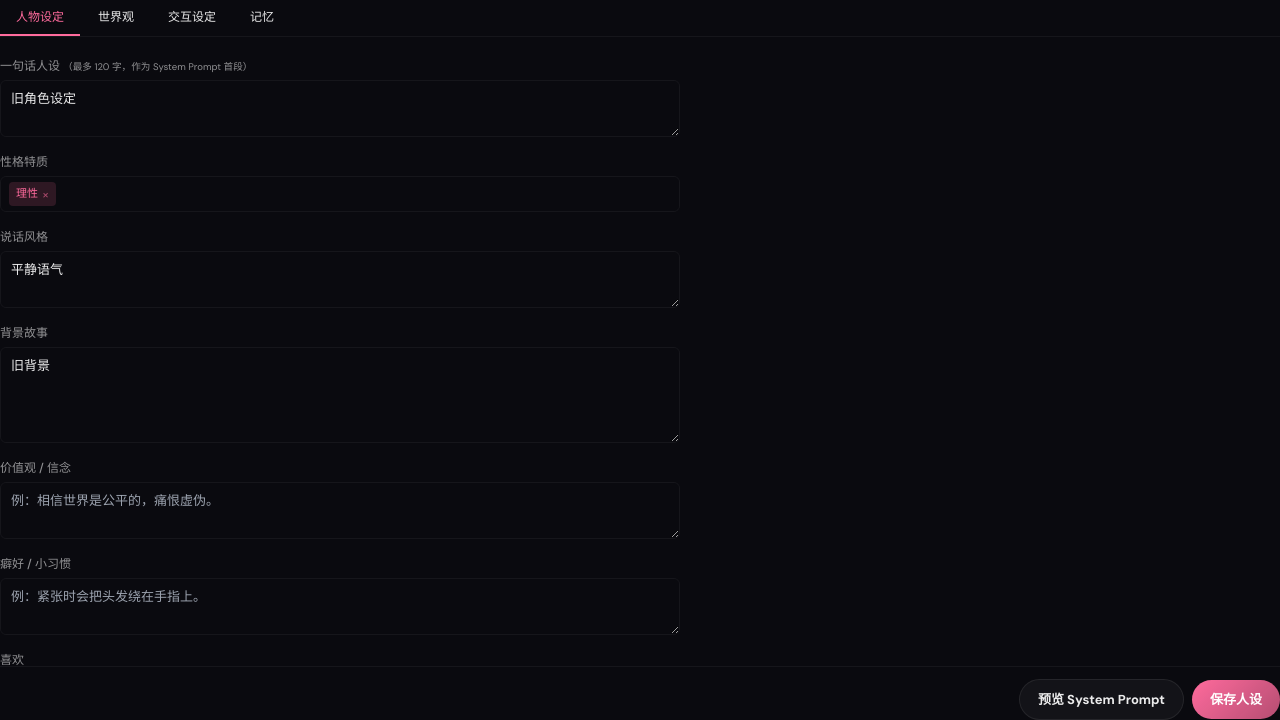
Test: 预览失败或角色切换后，不会残留旧 preview 内容
Expected: the text box showing "旧角色设定" is shown, [0, 80, 680, 137]
What coordinates should you click on to do the following:
click the button "预览 System Prompt"
I would click on:
 (1102, 699)
Its box is [1019, 678, 1184, 719].
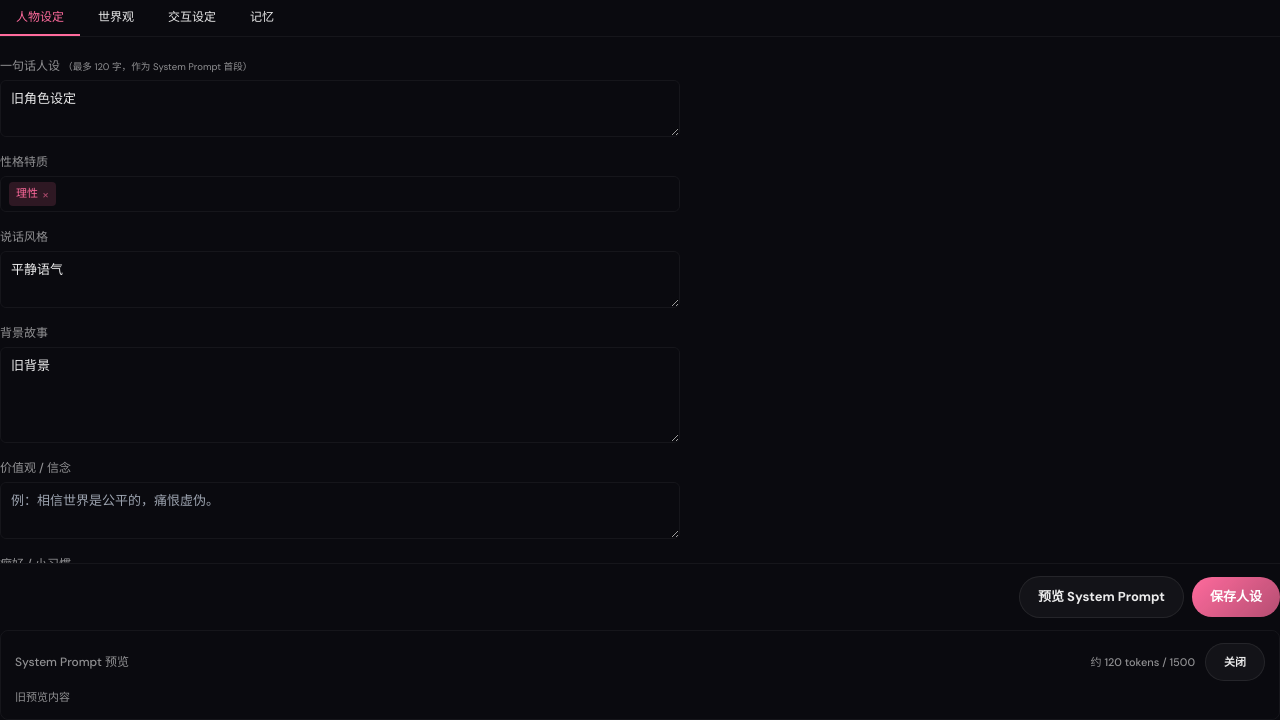
Result: the text "旧预览内容" is shown at [15, 690, 70, 704]
What coordinates should you click on to do the following:
click the button "预览 System Prompt"
I would click on:
 (1102, 597)
Its box is [1019, 576, 1184, 618].
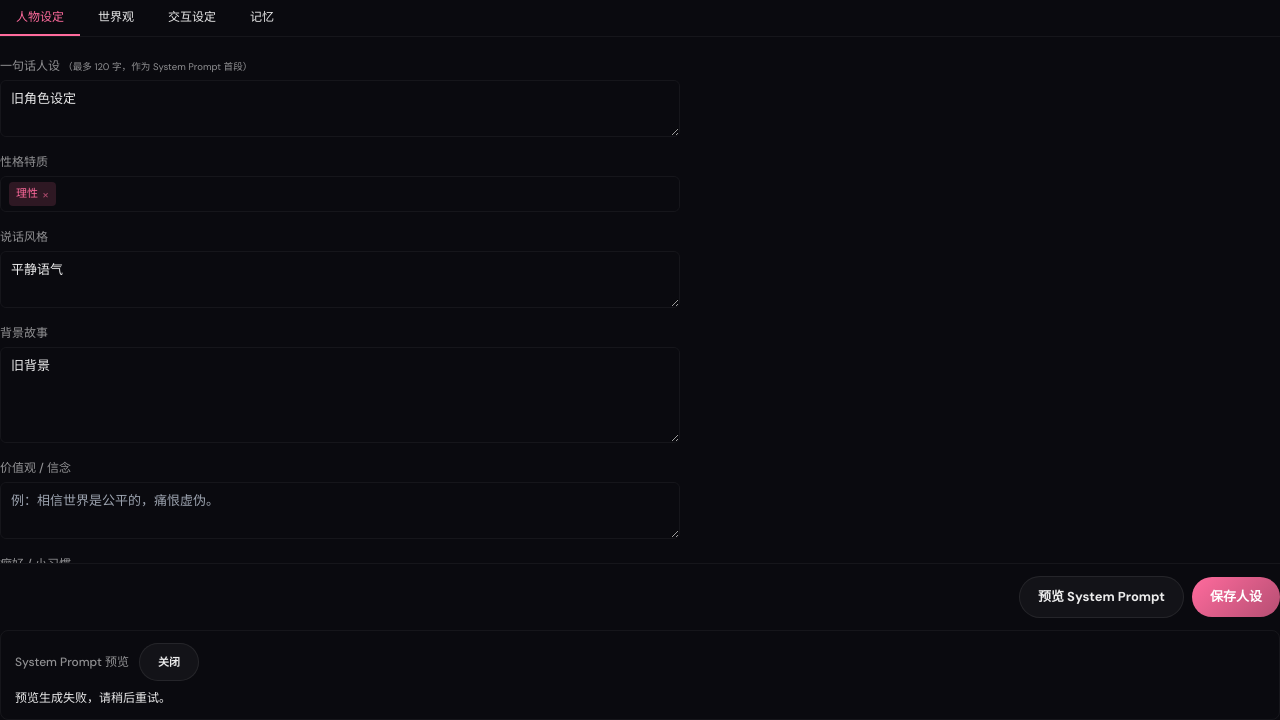
Result: the text "预览生成失败，请稍后重试。" is shown at [15, 690, 171, 706]
Result: the text "旧预览内容" is gone
